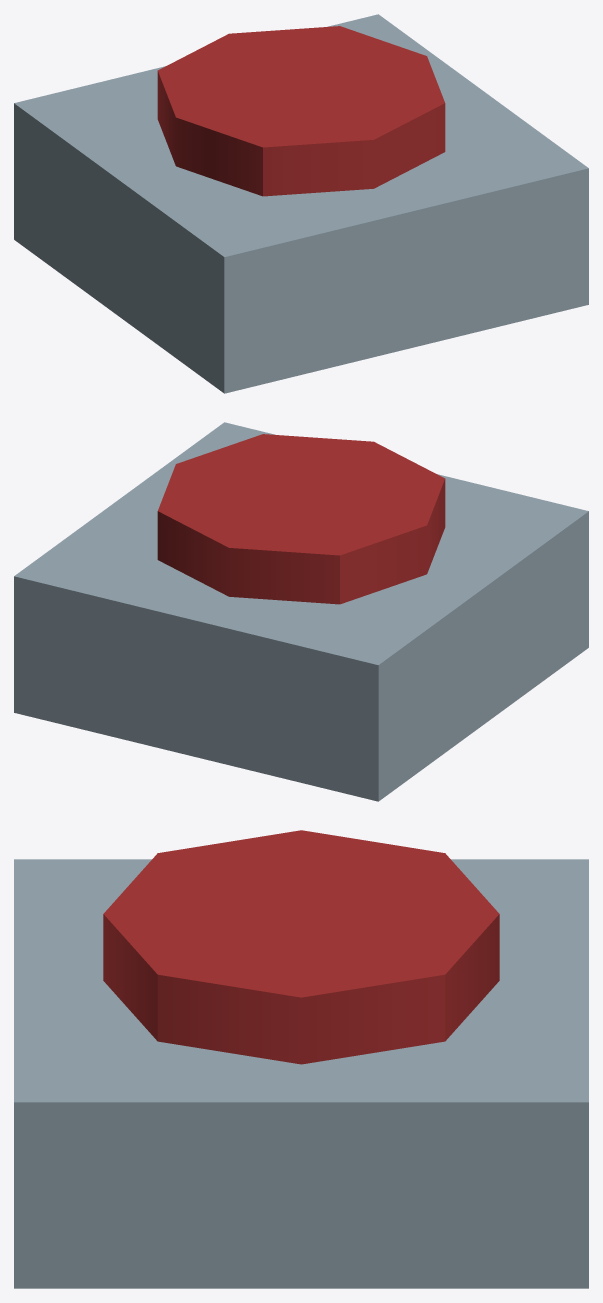
The model's file is button.fbx.
3 views of the same model, one above another, from view 1: azimuth 30°, elevation 25°; view 2: azimuth 150°, elevation 25°; view 3: azimuth 270°, elevation 25° (orthographic). The views are drawn at different scales.
Parts seen in each view (by area): view 1: pCube1; view 2: pCube1; view 3: pCube1.
Boxes of the visible parts, bbox=[...] form: pCube1: bbox=[14, 14, 588, 393]; pCube1: bbox=[14, 422, 588, 801]; pCube1: bbox=[14, 830, 588, 1288].
Bounding box in the file's own units: 1 × 0.4862 × 1.
